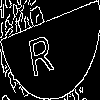R: (25, 24, 55, 78)
